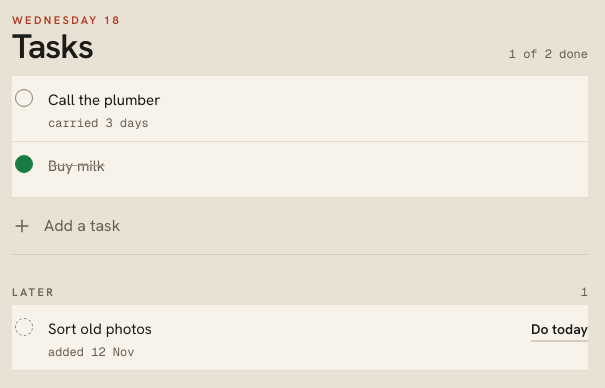
Scenario: TasksPage › moves an open task to Later from edit mode; Escape still cancels
Click the button with aria-label "Edit Buy milk" at [76, 166], box [48,155,588,178]
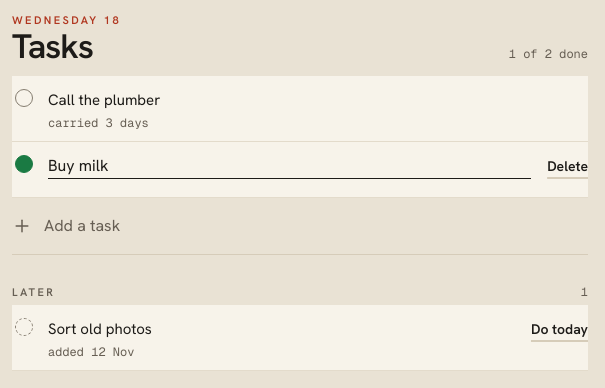
Press Escape
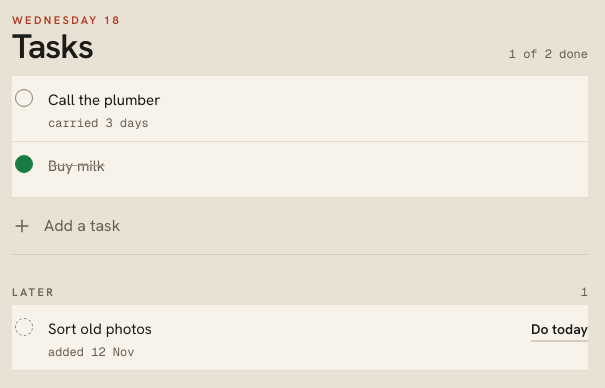
Click the button with aria-label "Edit Call the plumber" at [104, 100], box [48,89,588,112]
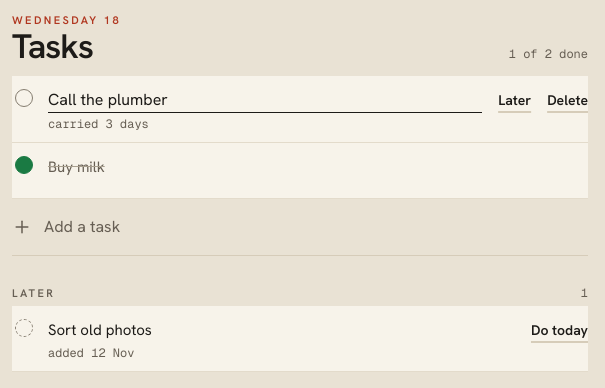
Click the button "Later" at [515, 101], box [498,79,531,123]
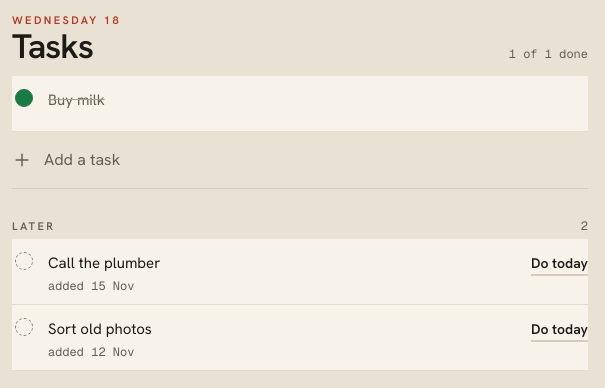
Now the button "Call the plumber" is shown, box [48,252,519,275]
